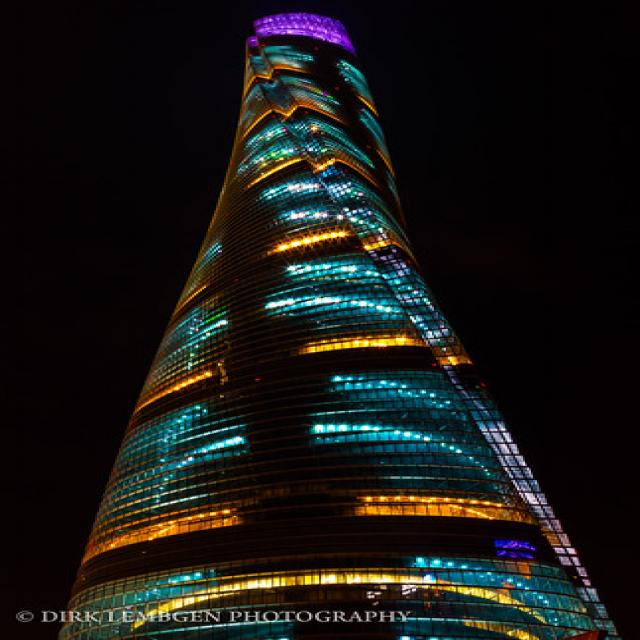Normal_building: (66, 9, 631, 637)
